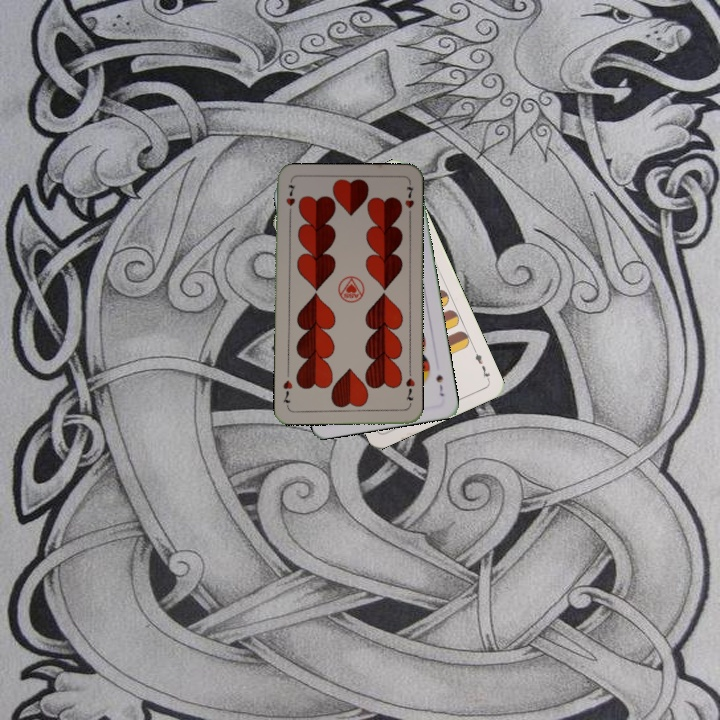E7: (470, 345, 492, 383)
H7: (282, 181, 297, 219), (402, 374, 417, 403)
S7: (432, 370, 446, 399)
